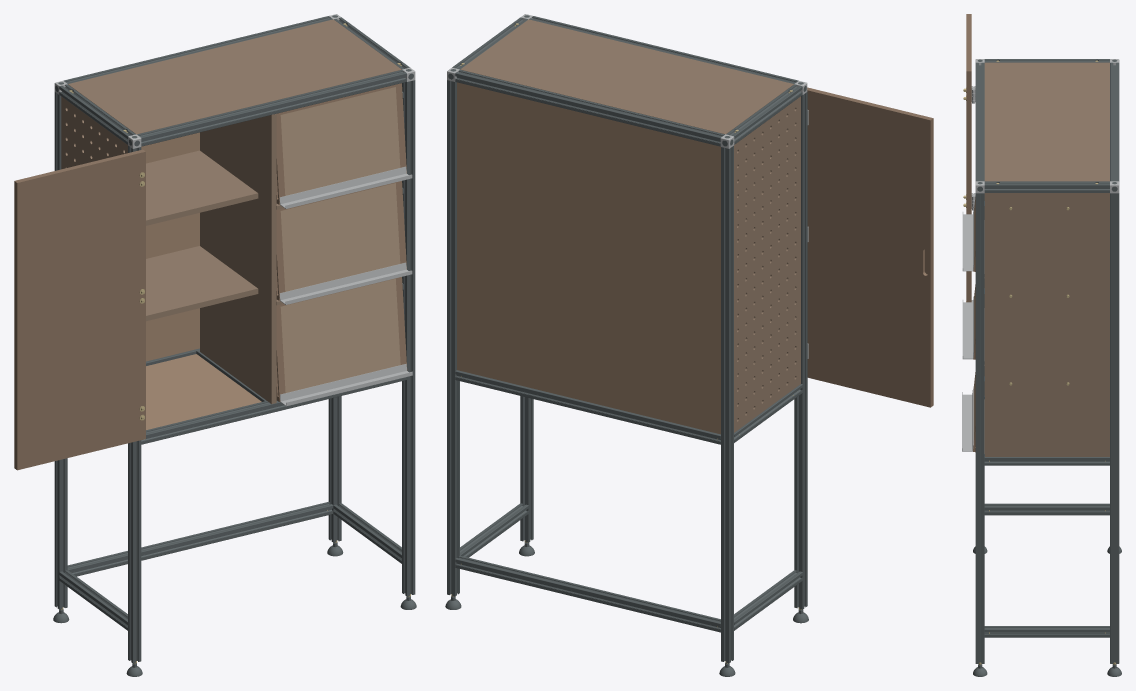
The model's file is cabinet-180.glb.
The picture shows the model from 3 angles, left to right: view 1: azimuth 30°, elevation 25°; view 2: azimuth 150°, elevation 25°; view 3: azimuth 270°, elevation 25°; orthographic projection. The views are drawn at different scales.
Visible parts, largest first — view 1: Left-door-face-18, Top-18, Center-18, Plywood-infill-6-1, Plywood-infill-6-3, Plywood-infill-6-2, Post-966-23, Floor-Left-8, Shelf-Left-2, Shelf-Left-1, Back-infill-8, Beam-top-front (+18 smaller); view 2: Back-infill-8, Left-door-face-18, Left-pegboard-18, Top-18, Post-4-470, Post-966-470, Post-4-23, Beam-top-rear, Beam-lower-rear, Beam-body-rear, Post-966-23, Beam-top-front (+4 smaller); view 3: Right-wall-18, Top-18, Post-966-23, Post-966-470, Beam-lower-side-4, Beam-lower-side-966, Beam-top-side-966, Left-door-face-18, Beam-top-rear, Beam-top-front, Beam-body-side-966, Display-ledge-1 (+3 smaller).
Part boxes in pixels (bbox=[...]): Left-door-face-18: bbox=[14, 149, 145, 470]; Top-18: bbox=[68, 19, 401, 134]; Center-18: bbox=[200, 114, 276, 404]; Plywood-infill-6-1: bbox=[280, 278, 400, 392]; Plywood-infill-6-3: bbox=[280, 87, 400, 195]; Plywood-infill-6-2: bbox=[280, 183, 400, 291]; Post-966-23: bbox=[402, 80, 415, 596]; Floor-Left-8: bbox=[146, 354, 261, 429]; Shelf-Left-2: bbox=[146, 150, 258, 225]; Shelf-Left-1: bbox=[146, 246, 258, 321]; Back-infill-8: bbox=[141, 132, 199, 361]; Beam-top-front: bbox=[137, 70, 406, 146]; Back-infill-8: bbox=[457, 82, 720, 434]; Left-door-face-18: bbox=[807, 87, 933, 407]; Left-pegboard-18: bbox=[734, 96, 800, 432]; Top-18: bbox=[460, 19, 793, 134]; Post-4-470: bbox=[721, 146, 733, 663]; Post-966-470: bbox=[447, 80, 459, 596]; Post-4-23: bbox=[794, 92, 807, 609]; Beam-top-rear: bbox=[455, 69, 724, 146]; Beam-lower-rear: bbox=[455, 555, 720, 632]; Beam-body-rear: bbox=[455, 370, 720, 444]; Post-966-23: bbox=[520, 396, 533, 542]; Beam-top-front: bbox=[529, 16, 798, 83]; Right-wall-18: bbox=[985, 193, 1109, 456]; Top-18: bbox=[984, 62, 1109, 181]; Post-966-23: bbox=[975, 193, 984, 663]; Post-966-470: bbox=[1110, 193, 1119, 663]; Beam-lower-side-4: bbox=[984, 503, 1109, 515]; Beam-lower-side-966: bbox=[984, 626, 1109, 637]; Beam-top-side-966: bbox=[984, 181, 1109, 192]; Left-door-face-18: bbox=[966, 14, 971, 302]; Beam-top-rear: bbox=[1110, 62, 1119, 181]; Beam-top-front: bbox=[975, 62, 984, 181]; Beam-body-side-966: bbox=[984, 454, 1109, 465]; Display-ledge-1: bbox=[962, 388, 973, 451].
Size of the model in its own units: 1.43 by 1.8 by 0.5317.
